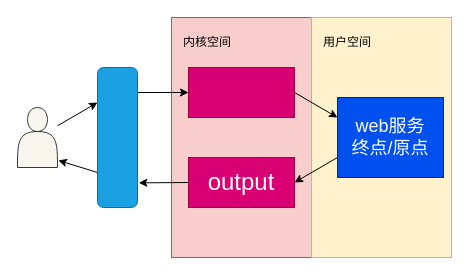
Some shapes in this 469 by 275 pixel diagram are drawn without their labels. Each missing label, with the centre of its shape:
"input" belongs at pixel 241 92.
"网卡" belongs at pixel 117 137.
